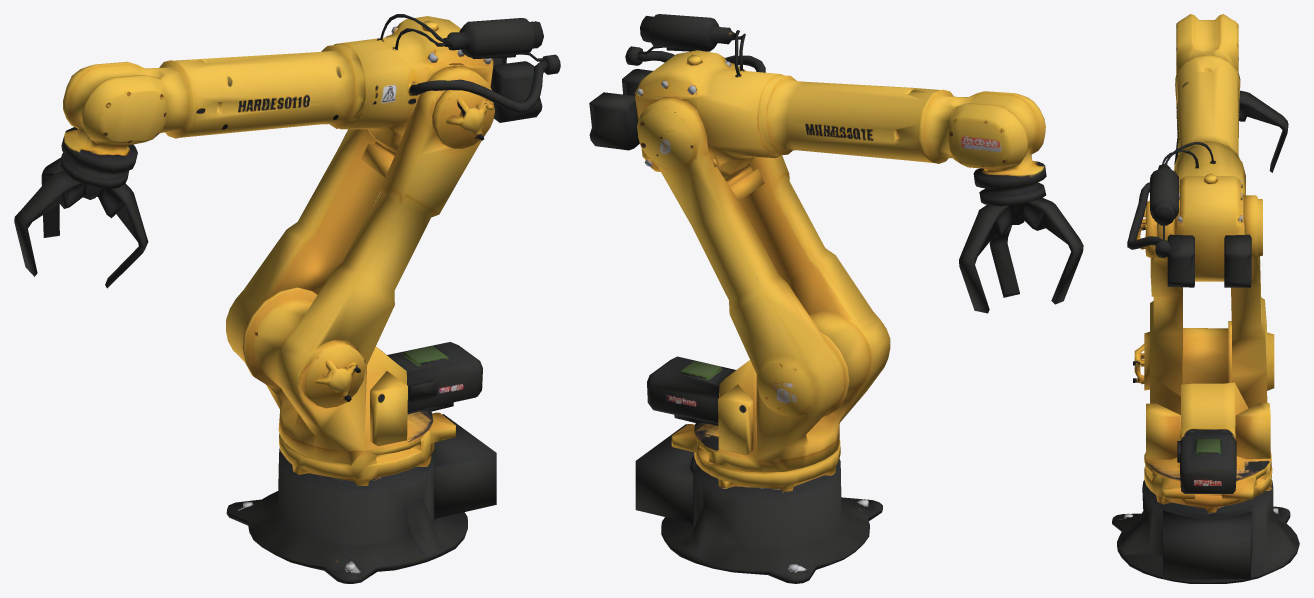
The model's file is selected.fbx.
3 renders of one model, left to right at view 1: azimuth 30°, elevation 25°; view 2: azimuth 150°, elevation 25°; view 3: azimuth 270°, elevation 25°, orthographic. The views are drawn at different scales.
Visible parts, largest first — view 1: tripo_node_eed28e60-af81-405b-88dd-83069e28d7bc; view 2: tripo_node_eed28e60-af81-405b-88dd-83069e28d7bc; view 3: tripo_node_eed28e60-af81-405b-88dd-83069e28d7bc.
Boxes of the visible parts, left/top/right/bottom form: tripo_node_eed28e60-af81-405b-88dd-83069e28d7bc: left=14, top=14, right=560, bottom=583; tripo_node_eed28e60-af81-405b-88dd-83069e28d7bc: left=589, top=14, right=1083, bottom=583; tripo_node_eed28e60-af81-405b-88dd-83069e28d7bc: left=1112, top=14, right=1299, bottom=583.
Bounding box in the file's own units: 99.8 × 97.46 × 38.87.
Materials: 1 (1 with a texture image).
